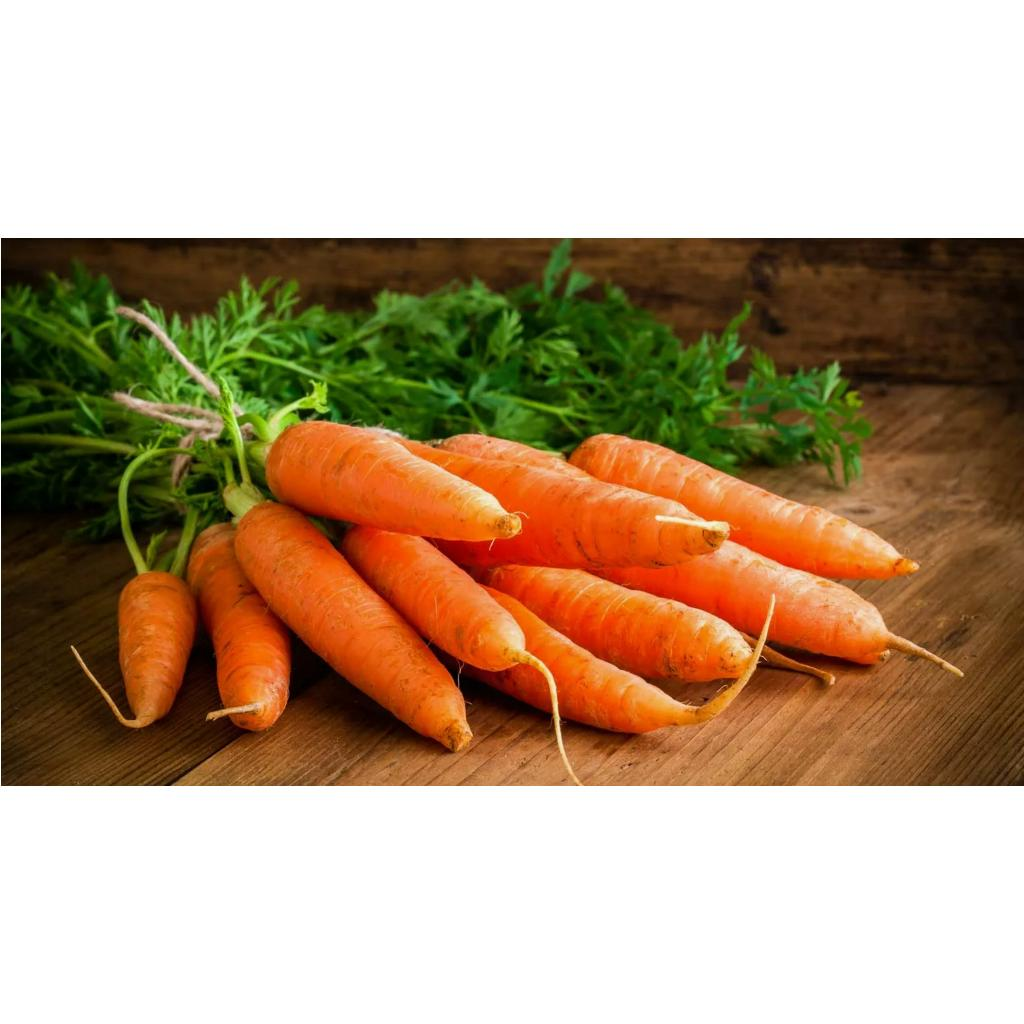carrot: (234, 502, 472, 752), (570, 434, 918, 580), (446, 584, 752, 734), (394, 440, 728, 570), (586, 541, 904, 653), (470, 566, 752, 682), (264, 422, 520, 542), (340, 526, 524, 672), (186, 524, 290, 732), (118, 572, 196, 728)
